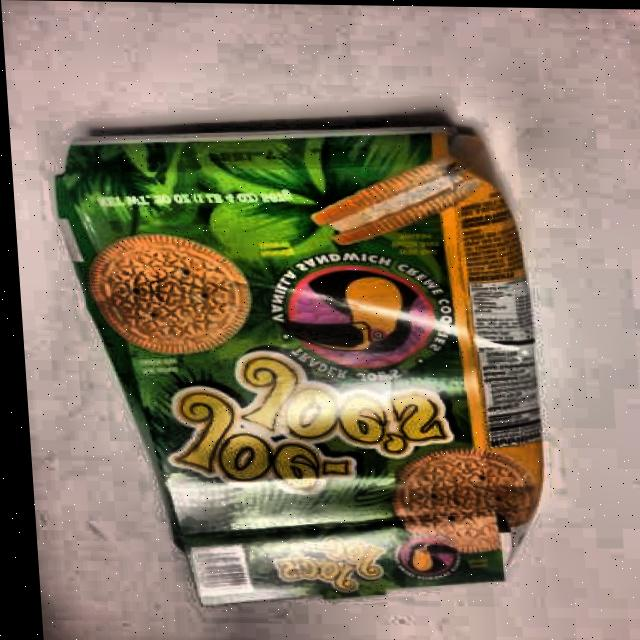paper: (46, 115, 559, 616)
